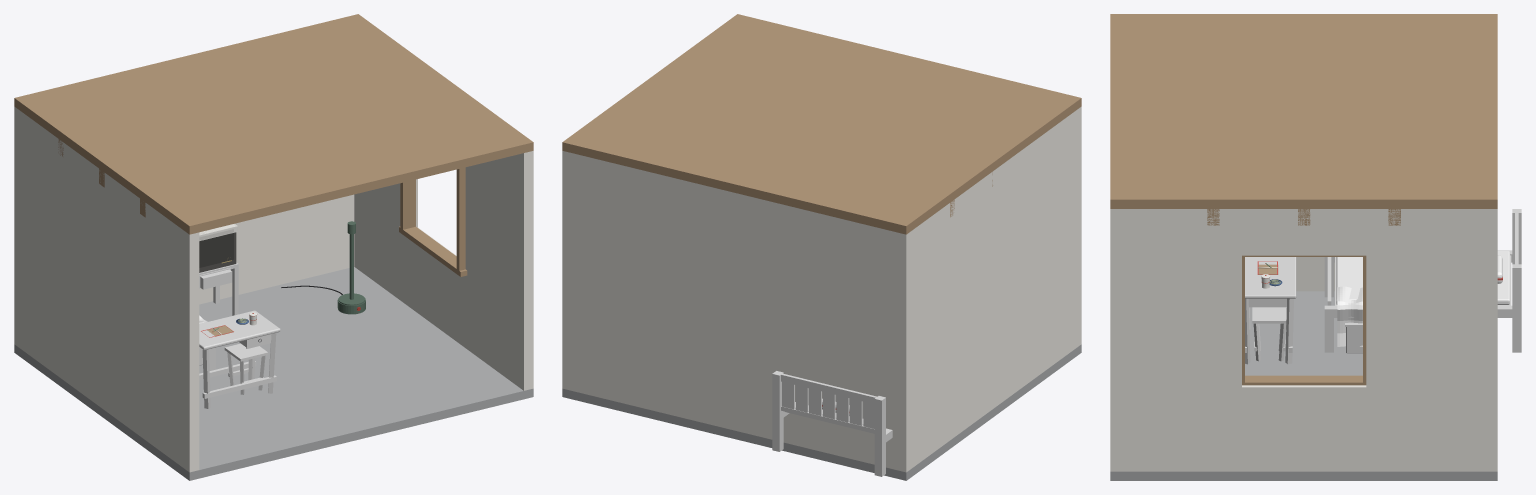
The model's file is scene_static.glb.
The picture shows the model from 3 angles, left to right: view 1: azimuth 30°, elevation 25°; view 2: azimuth 150°, elevation 25°; view 3: azimuth 270°, elevation 25°; orthographic projection. The views are drawn at different scales.
Parts seen in each view (by area): view 1: ceiling, wall_left, floor, wall_right, wall_back, window_frame, prop_desk_top, prop_tv_bezel; view 2: wall_back, ceiling, wall_left, floor, wall_right, prop_bed_head_toprail; view 3: wall_right, ceiling, floor, window_frame, wall_back, prop_desk_top, prop_bed_blanket, wall_left, prop_bed_coolmat, prop_bed_mattress, prop_desk_stool_top, prop_desk_leg_1 (+4 smaller).
Boxes of the visible parts, x1,y1,x2,y2 form: ceiling: (14,14,533,234); wall_left: (14,106,199,472); floor: (14,267,533,480); wall_right: (354,151,533,390); wall_back: (14,194,354,347); window_frame: (399,167,467,276); prop_desk_top: (199,310,280,350); prop_tv_bezel: (199,230,233,267); wall_back: (562,151,911,472); ceiling: (562,14,1081,234); wall_left: (896,106,1081,471); floor: (562,344,1081,480); wall_right: (562,151,571,390); prop_bed_head_toprail: (781,373,876,404); wall_right: (1110,209,1497,471); ceiling: (1110,14,1497,208); floor: (1110,291,1497,480); window_frame: (1242,255,1366,385); wall_back: (1485,209,1497,471); prop_desk_top: (1245,257,1296,298); prop_bed_blanket: (1337,286,1362,346); wall_left: (1296,257,1334,291); prop_bed_coolmat: (1337,257,1362,299); prop_bed_mattress: (1336,251,1509,304); prop_desk_stool_top: (1252,307,1286,323); prop_desk_leg_1: (1285,298,1293,364).
Bounding box in the file's own units: 4.24 × 3 × 3.97.
